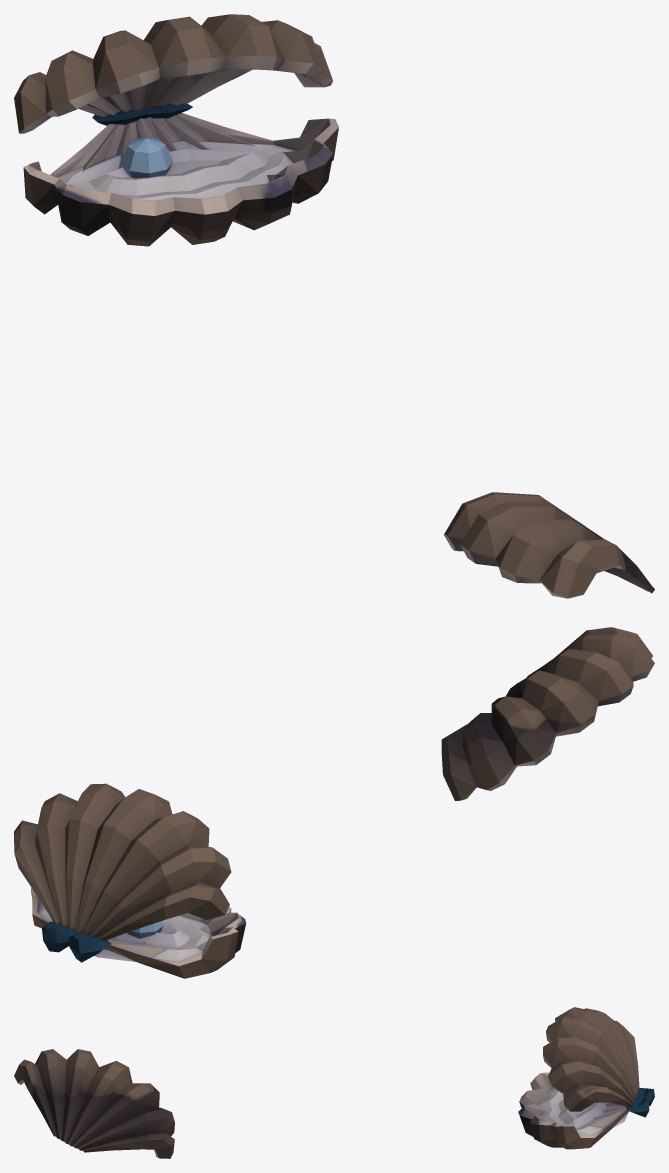
The model's file is Clam_01.FBX.
The picture shows the model from 3 angles, top to bottom: view 1: azimuth 30°, elevation 25°; view 2: azimuth 150°, elevation 25°; view 3: azimuth 270°, elevation 25°; orthographic projection. The views are drawn at different scales.
Visible parts, largest first — view 1: Clam_01; view 2: Clam_01; view 3: Clam_01.
Part boxes in pixels (<box>): Clam_01: <box>14,14,654,598</box>; Clam_01: <box>14,627,654,978</box>; Clam_01: <box>14,1007,654,1158</box>.
Bounding box in the file's own units: 11.09 × 9.03 × 35.83.
